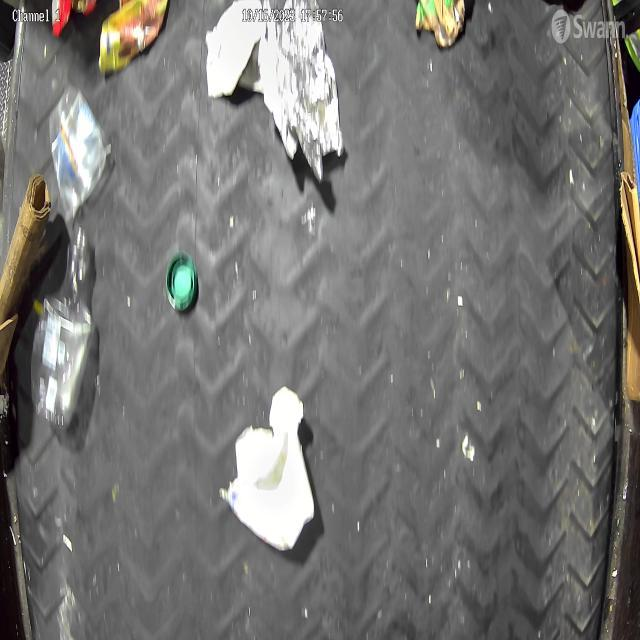can: (416, 0, 465, 48)
milk_jug: (219, 385, 315, 553)
plastic_bottle: (28, 224, 94, 428)
